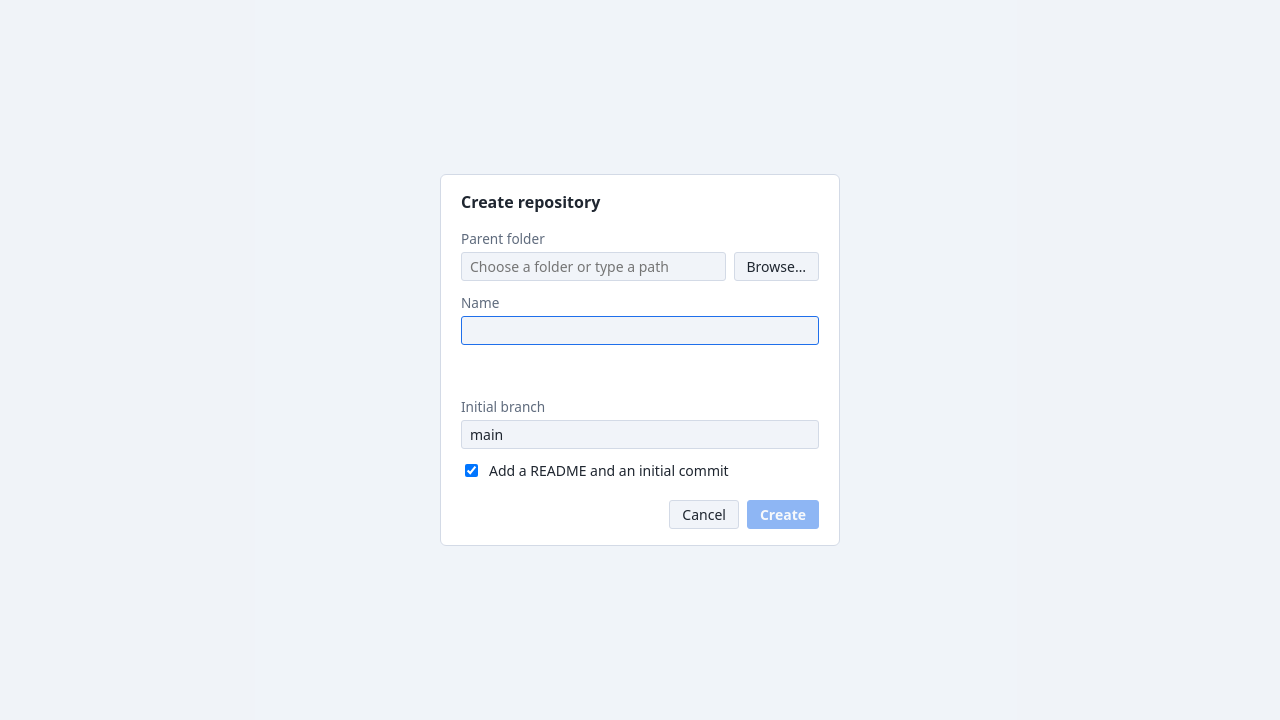
Test: CreateRepoDialog › disables Create for an invalid name or branch
Step 1. Type "/p" into the field named "Parent folder" → coordinates (593, 267), box [461, 252, 726, 281]
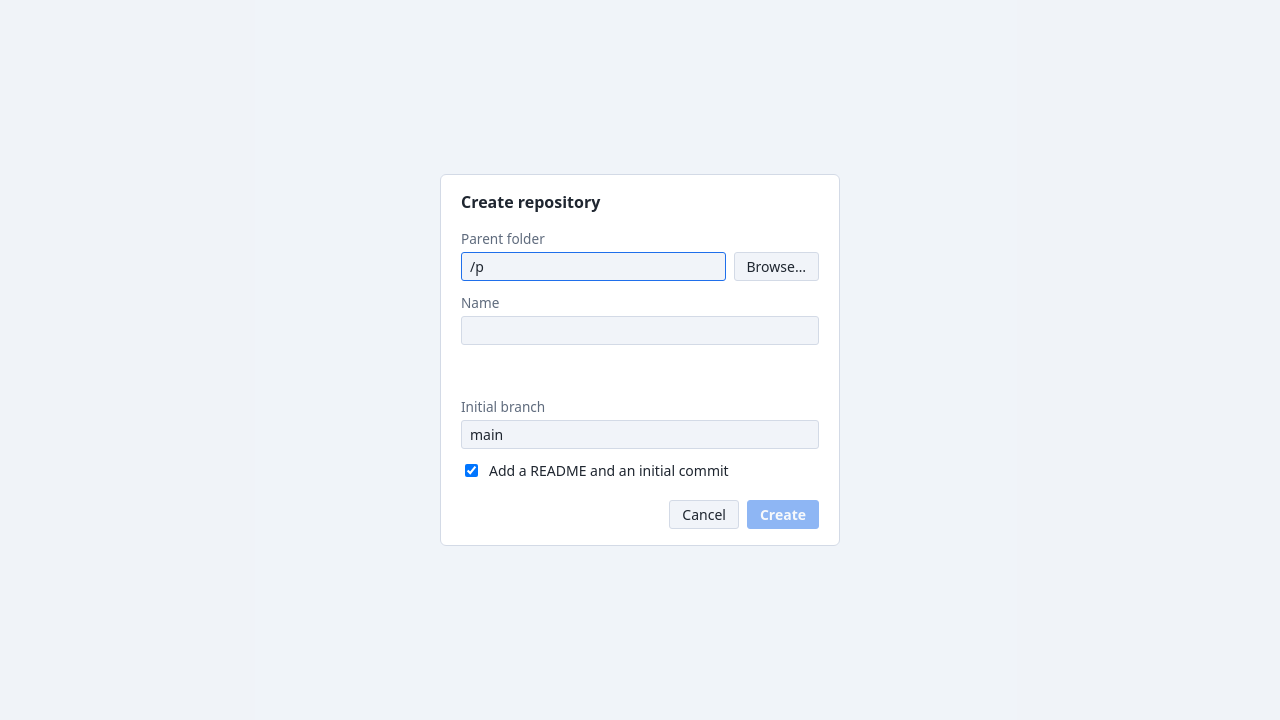
Step 2. Type "a/b" into the field labelled "Name" → coordinates (640, 331), box [461, 316, 819, 345]
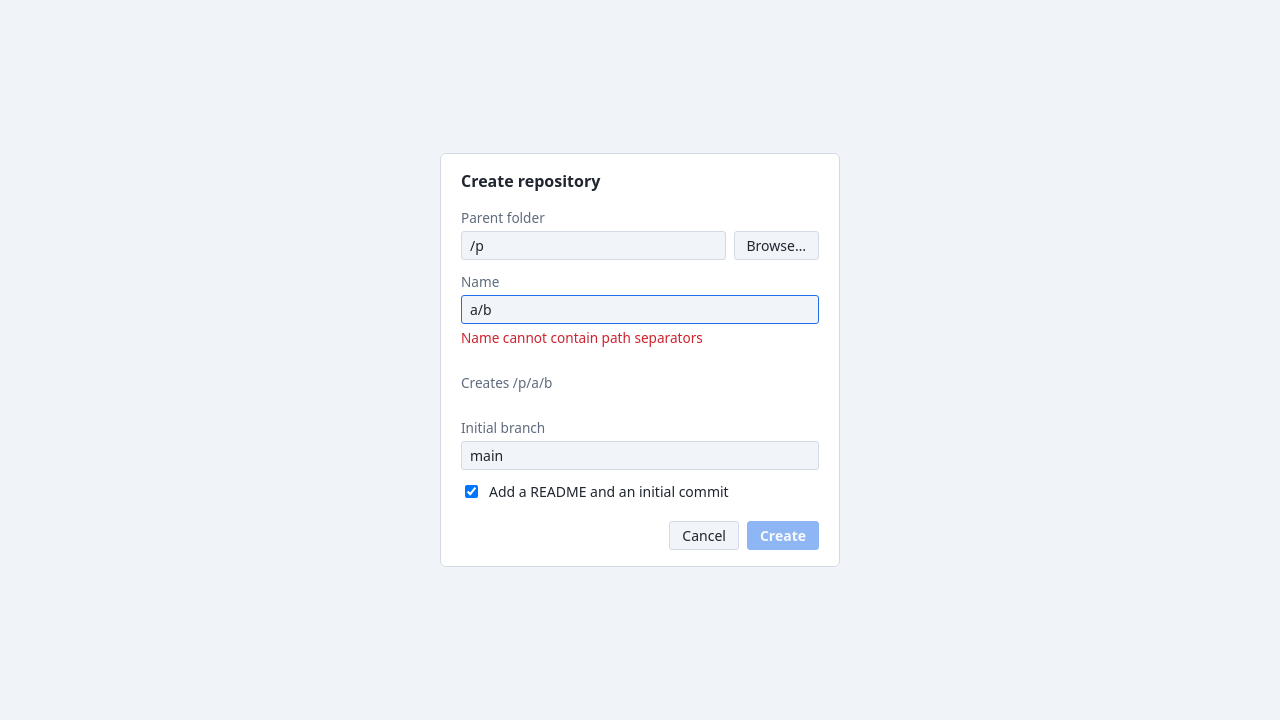
expect the button "Create" is disabled: met, box [747, 521, 819, 550]
Step 3. Clear the field labelled "Name Name cannot contain path separators" → coordinates (640, 310), box [461, 295, 819, 324]
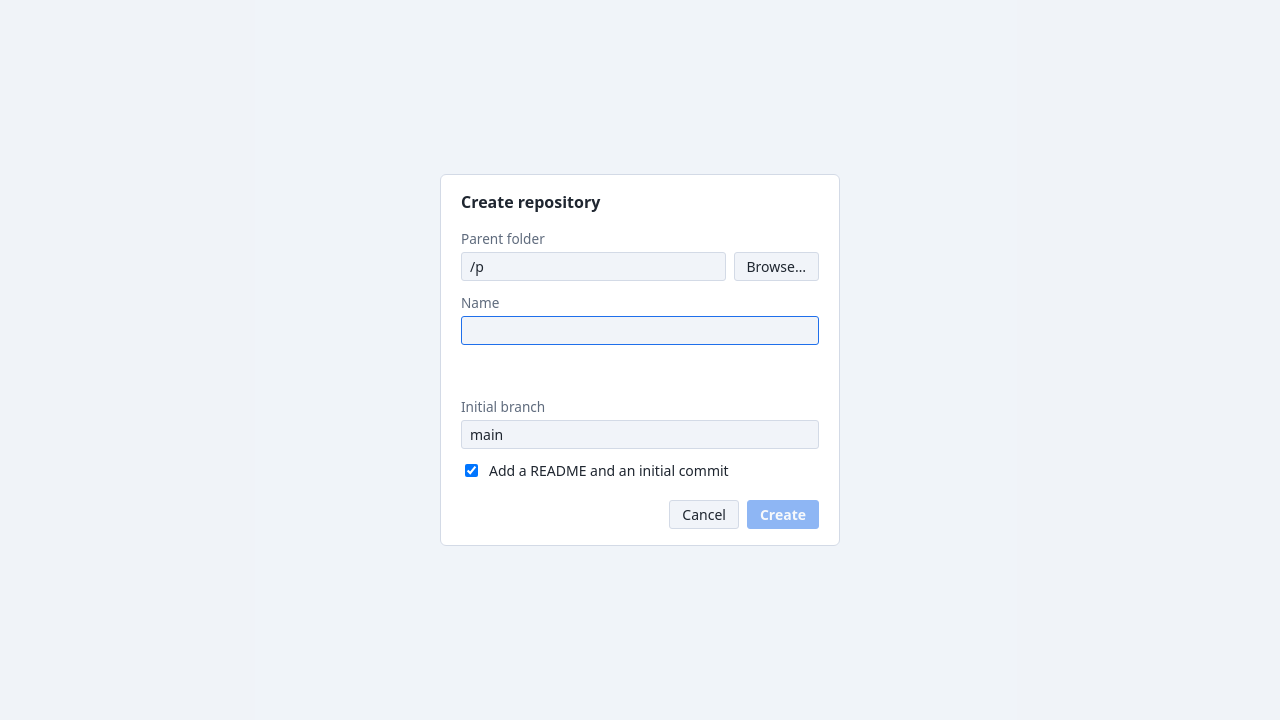
Step 4. Type "proj" into the field labelled "Name" → coordinates (640, 331), box [461, 316, 819, 345]
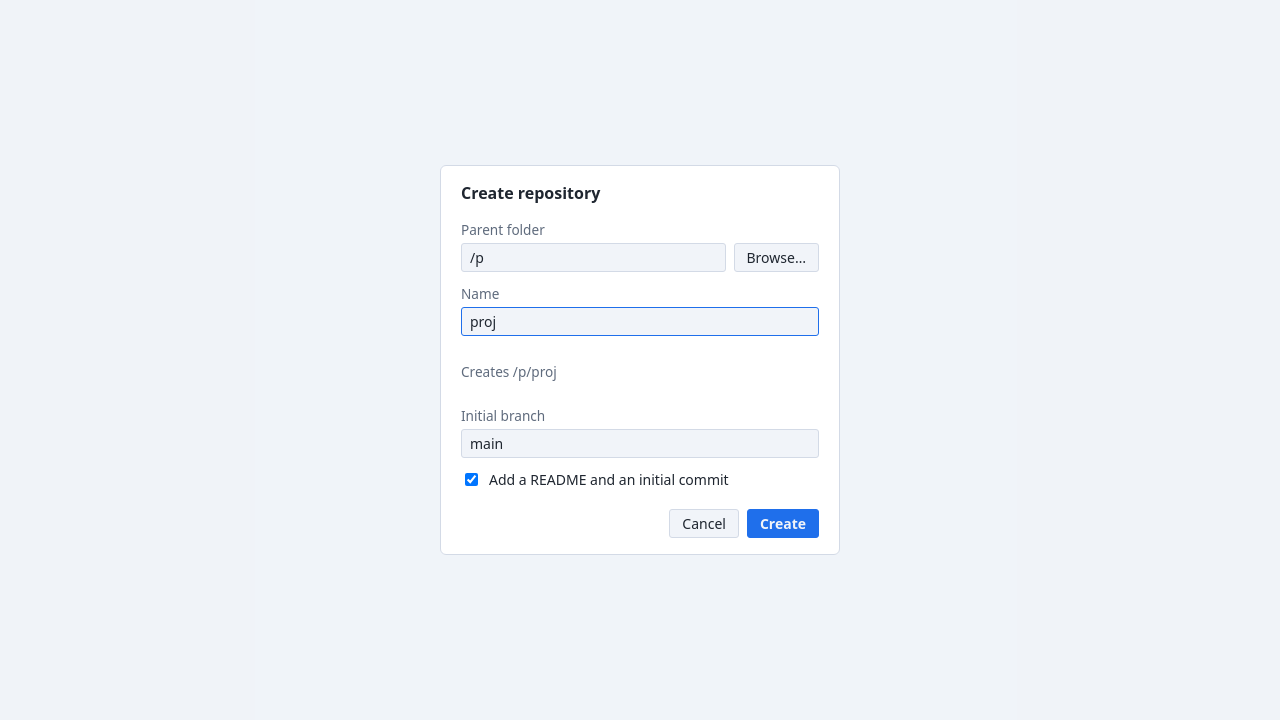
Step 5. Type " x" into the field labelled "Initial branch" → coordinates (640, 444), box [461, 429, 819, 458]
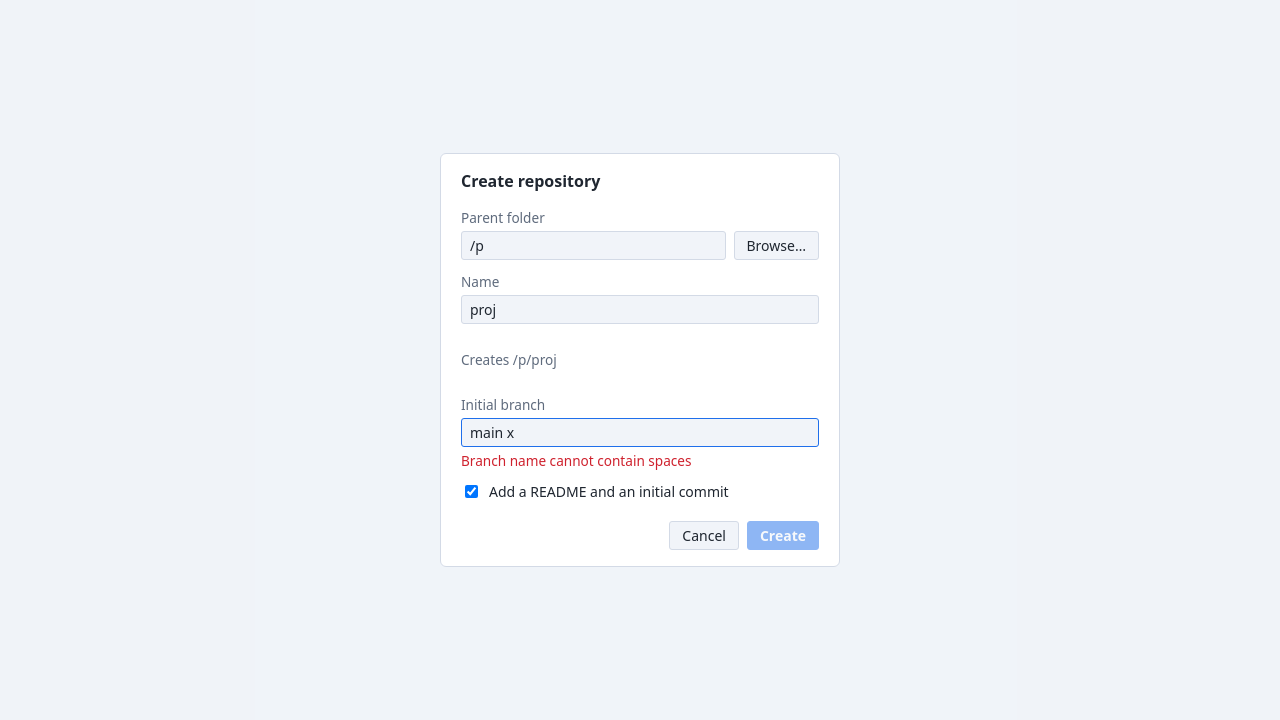
expect the text "Branch name cannot contain spaces" is shown: met, box [461, 451, 692, 470]
expect the button "Create" is disabled: met, box [747, 521, 819, 550]
